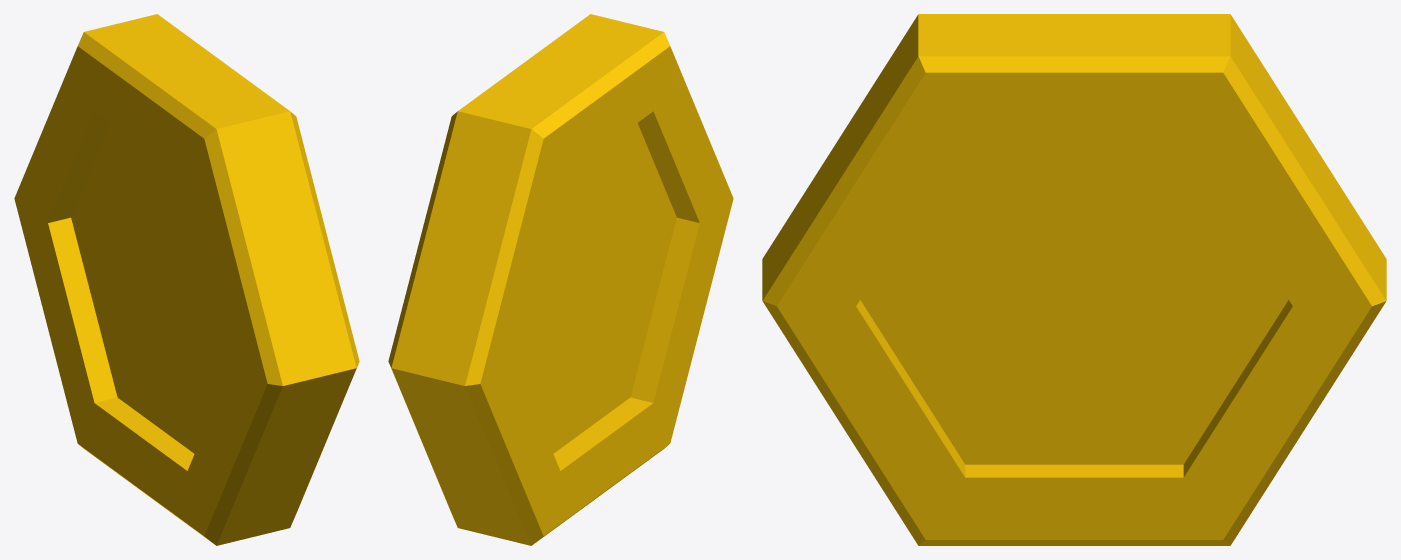
File: HJD_FP_collectible_coin00.fbx
The picture shows the model from 3 angles, left to right: view 1: azimuth 30°, elevation 25°; view 2: azimuth 150°, elevation 25°; view 3: azimuth 270°, elevation 25°; orthographic projection. The views are drawn at different scales.
Parts seen in each view (by area): view 1: transform_unity_scale17; view 2: transform_unity_scale17; view 3: transform_unity_scale17.
Boxes of the visible parts, box(x1,y1,x2,y2) form: transform_unity_scale17: box(14, 14, 359, 545); transform_unity_scale17: box(388, 14, 733, 545); transform_unity_scale17: box(762, 14, 1386, 545).
Bounding box in the file's own units: 10 × 43.3 × 50.
